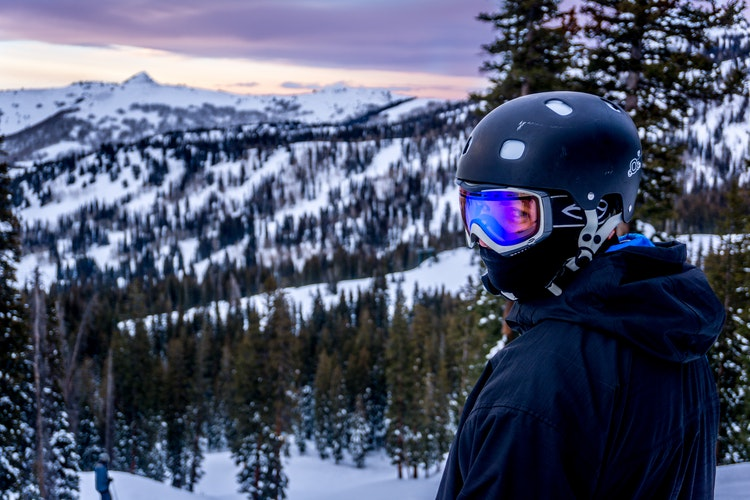helmet: (445, 97, 649, 261)
